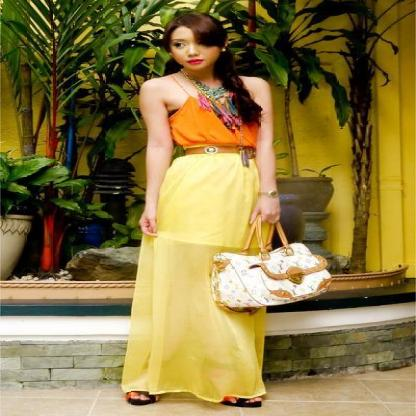bag: (193, 231, 352, 308)
shirt: (164, 81, 262, 167)
shoe: (126, 391, 262, 407)
skirt: (112, 151, 276, 402)
